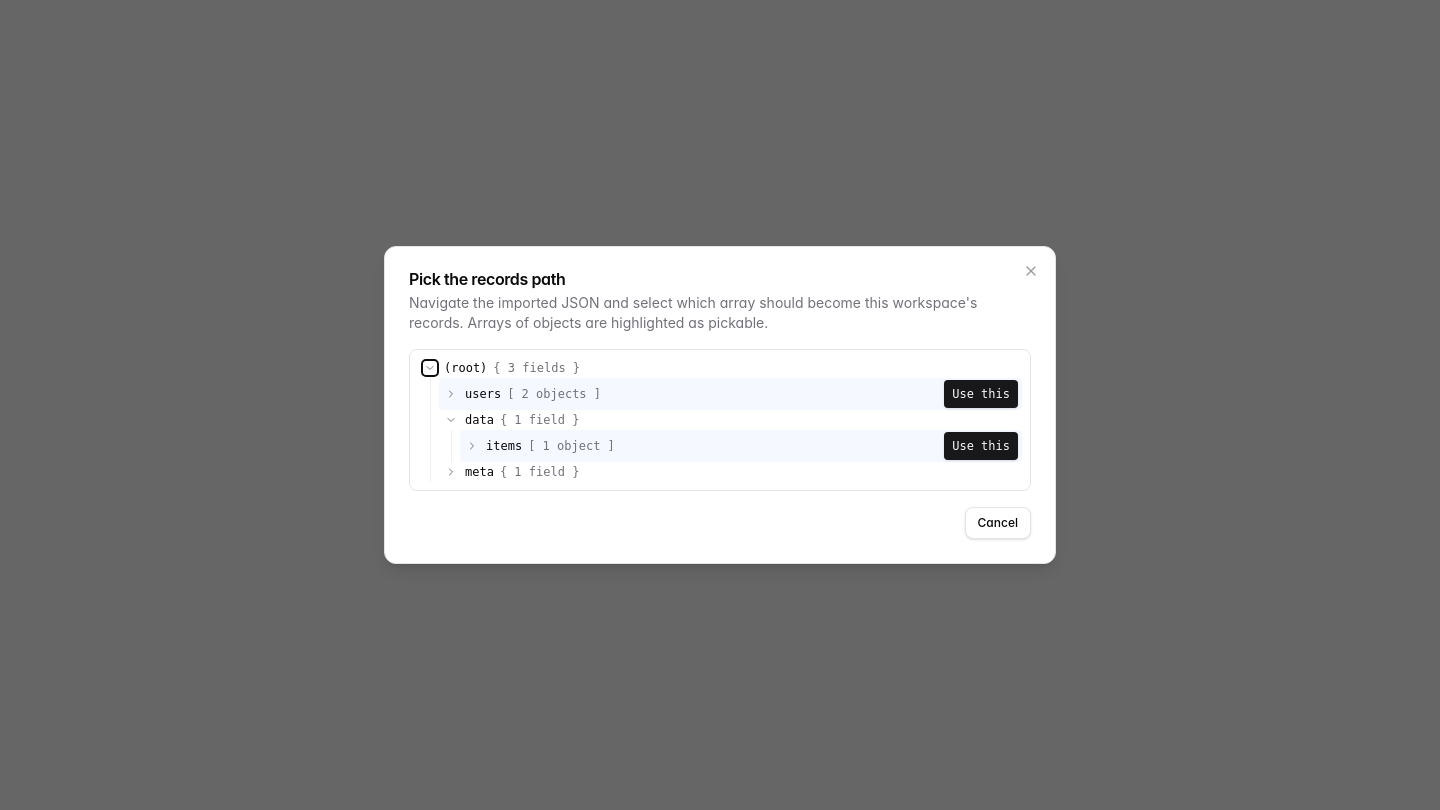
Test: RootPickerModal › W2-PM4: clicking the chevron on a closed container reveals its children
Expected: the text "source" is not shown
Click the button named "expand" next to "meta". click: (451, 472)
box: [443,464,459,480]
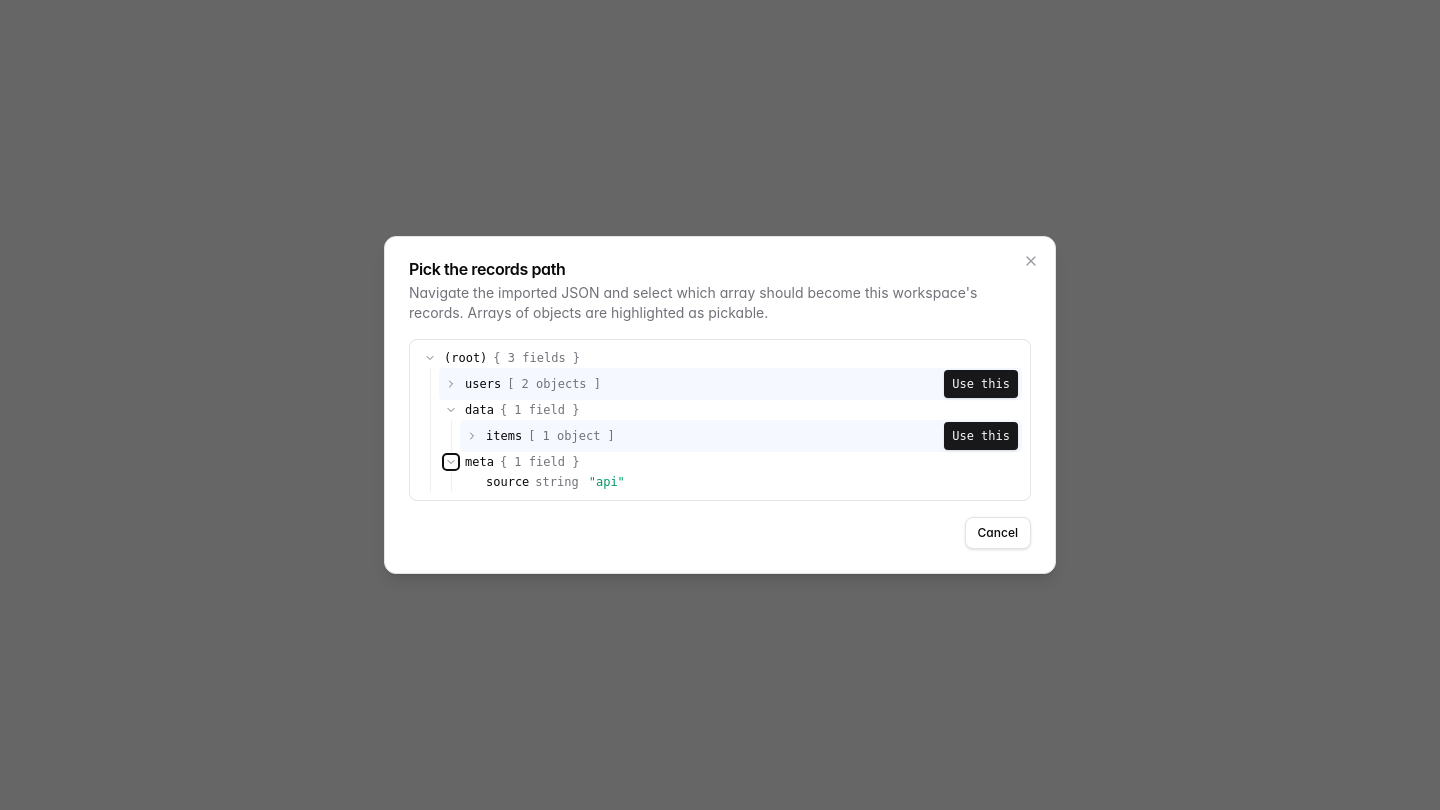
Expected: the text "source" is shown, [486,474,529,490]
